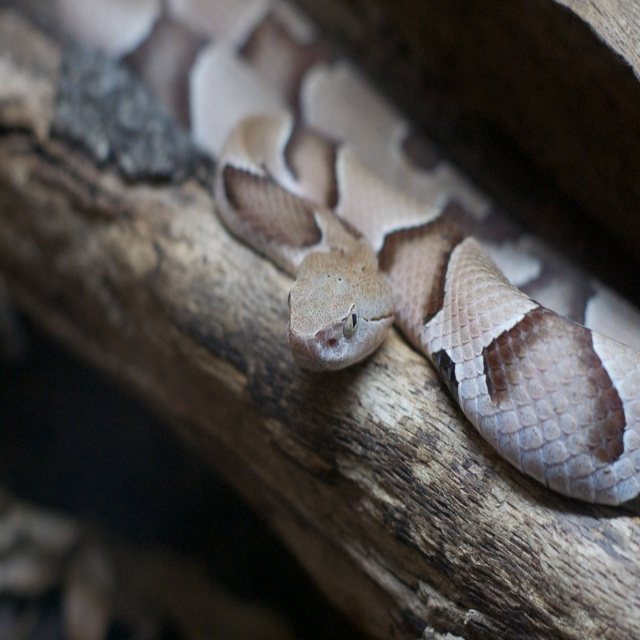Snake: (26, 0, 640, 517)
